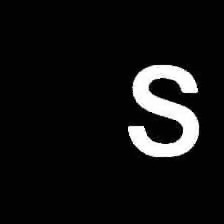LTR_S: (121, 58, 205, 162)
